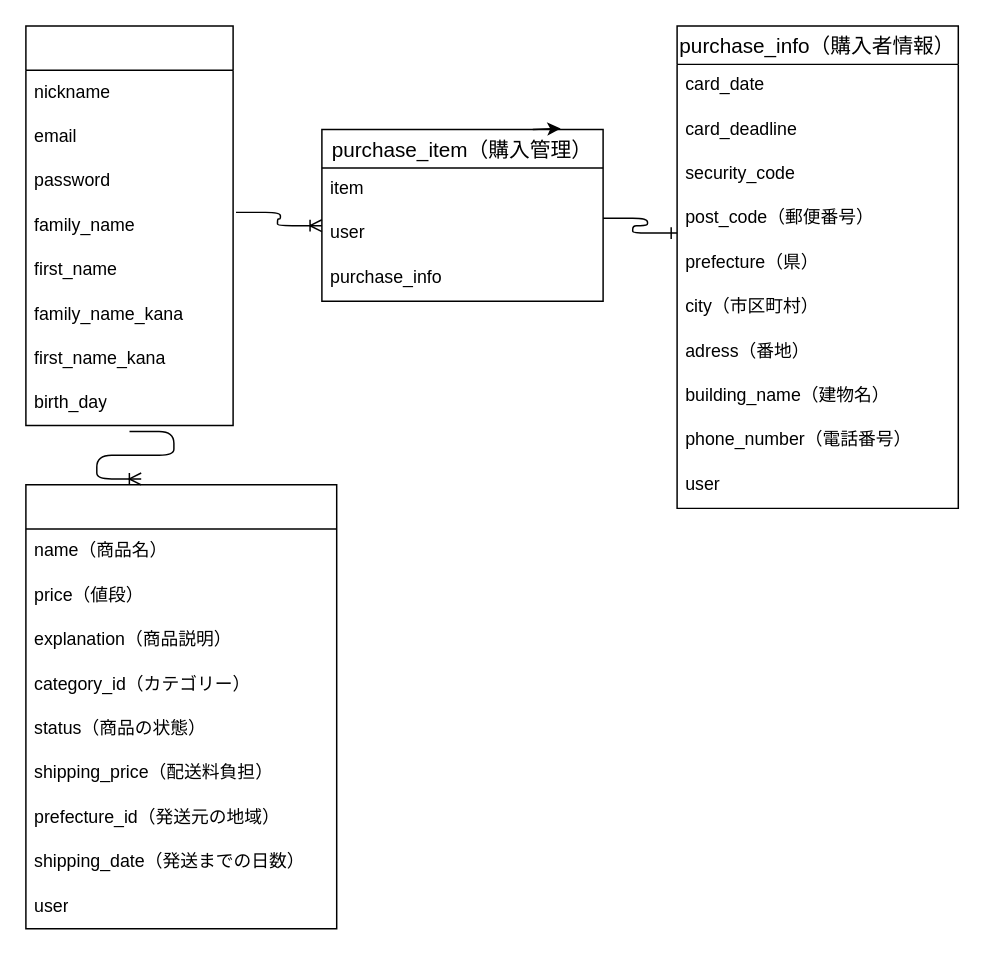
This 984x955 diagram has some shape labels left out. The box of each missing label's shape, as (x1, y1, x2, y2) in pixels:
items: (24, 483, 337, 929)
users: (24, 24, 233, 426)
